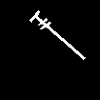treble_crochet: (30, 10, 85, 59)
